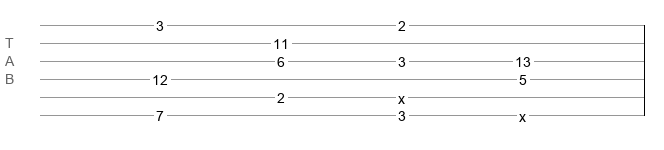11: (273, 36, 289, 46)
12: (152, 72, 168, 82)
13: (515, 54, 531, 64)
2: (277, 90, 285, 100), (398, 18, 406, 28)
3: (156, 18, 164, 28), (398, 54, 406, 64), (398, 108, 406, 118)
5: (519, 72, 527, 82)
6: (277, 54, 285, 64)
7: (156, 108, 164, 118)
x: (398, 91, 405, 99), (519, 109, 526, 117)
